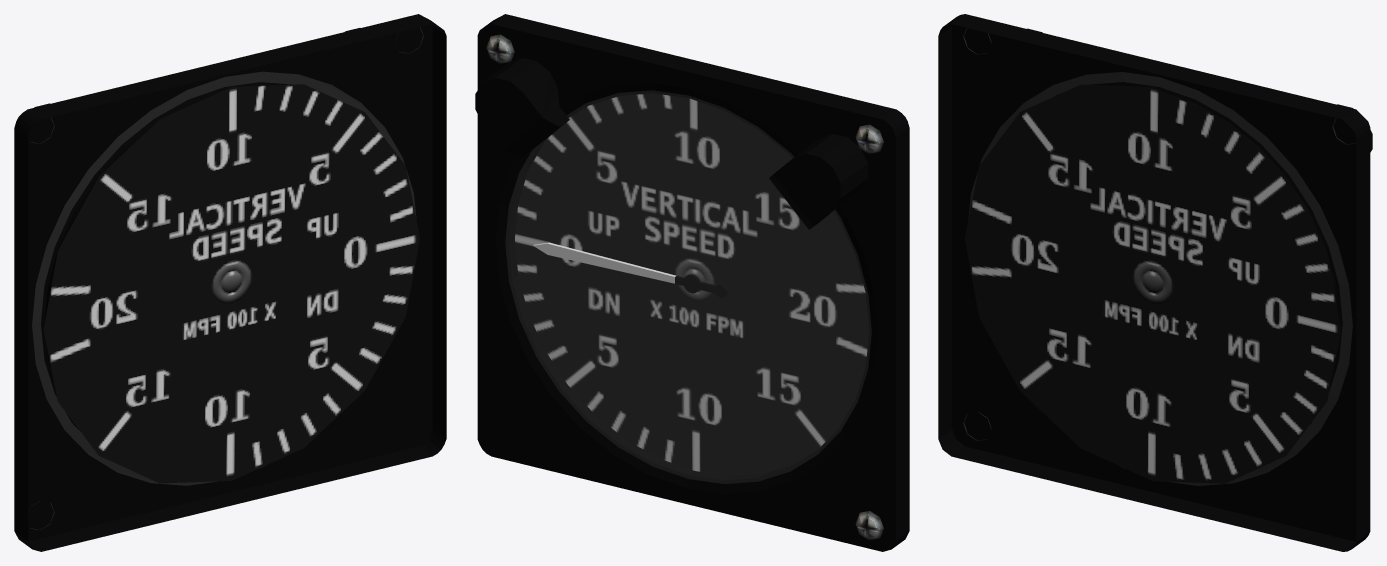
File: vsi.obj
3 renders of one model, left to right at view 1: azimuth 30°, elevation 25°; view 2: azimuth 150°, elevation 25°; view 3: azimuth 330°, elevation 25°, orthographic.
Parts seen in each view (by area): view 1: VSIface, VSIgauge, vitre; view 2: VSIface, VSIgauge, vitre, VSIneedle; view 3: VSIface, VSIgauge, vitre.
Part boxes in pixels (x1=…): VSIface: x1=43, y1=84, x2=419, y2=483; VSIgauge: x1=14, y1=14, x2=446, y2=551; vitre: x1=32, y1=72, x2=414, y2=484; VSIface: x1=515, y1=93, x2=869, y2=475; VSIgauge: x1=475, y1=14, x2=909, y2=551; vitre: x1=506, y1=91, x2=870, y2=483; VSIneedle: x1=533, y1=242, x2=727, y2=297; VSIface: x1=965, y1=84, x2=1341, y2=483; VSIgauge: x1=938, y1=14, x2=1372, y2=551; vitre: x1=969, y1=72, x2=1352, y2=485.
Size of the model in its own units: 0.0725 by 0.0717 by 0.0124.
Materials: 2 (1 with a texture image).
